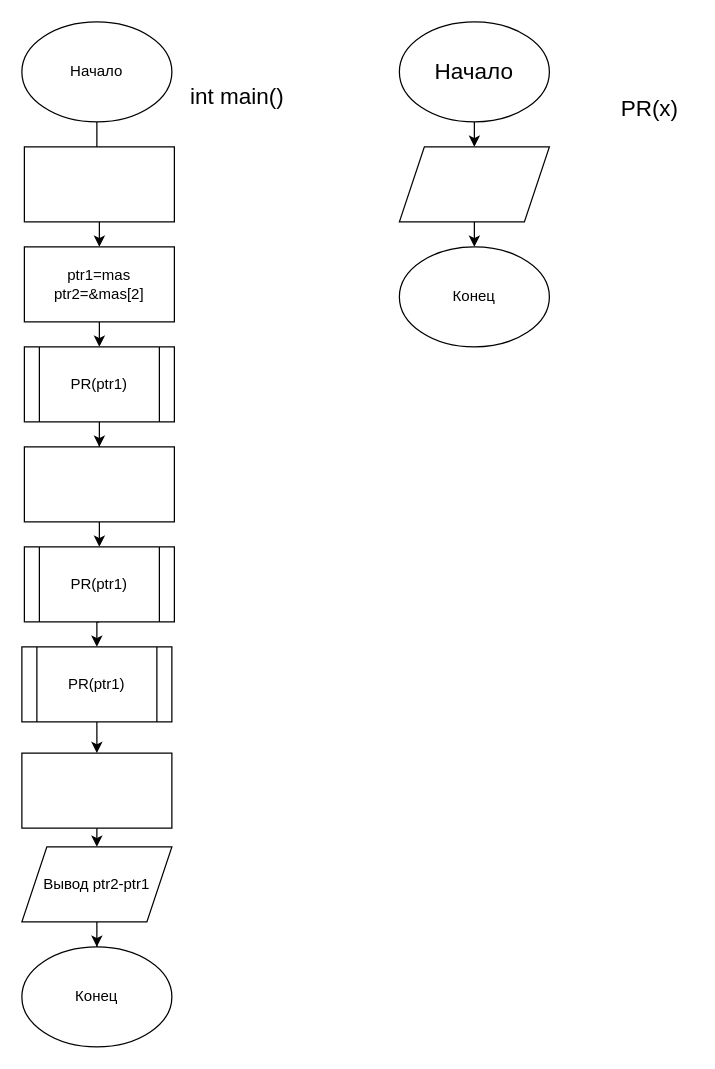
Some shapes in this 715 by 1069 pixel diagram are drawn without their labels. Each missing label, with the centre of its shape:
++ptr2: point (96, 790)
maxs[] = {100,200,300}: point (98, 184)
ptr1++: point (98, 484)
Вывод x,*x,&x: point (473, 184)
